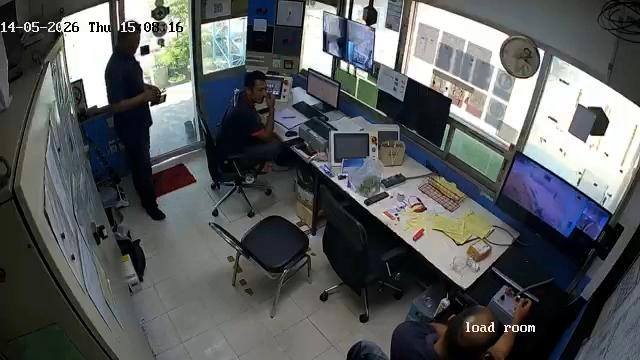Head: (444, 304, 500, 347), (116, 22, 144, 58), (241, 72, 271, 104)
People: (104, 21, 166, 223), (394, 301, 529, 360), (219, 71, 296, 172)
Phone: (151, 94, 165, 107), (257, 107, 269, 115)
